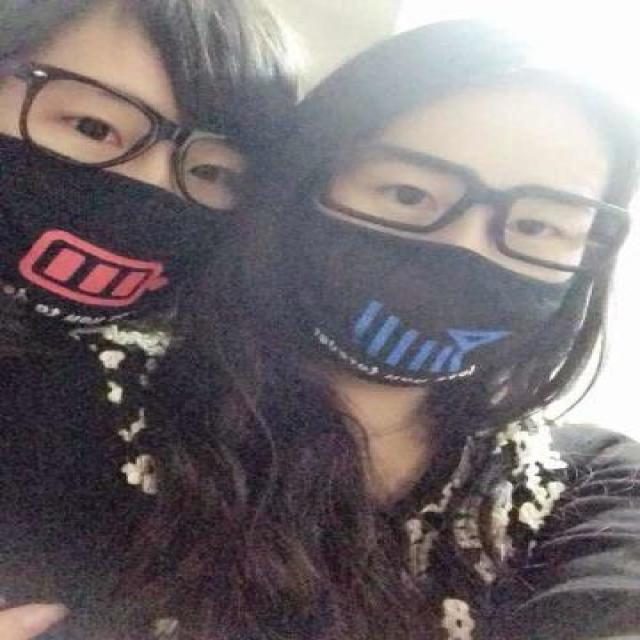mask: (304, 89, 596, 383), (2, 15, 261, 345)
